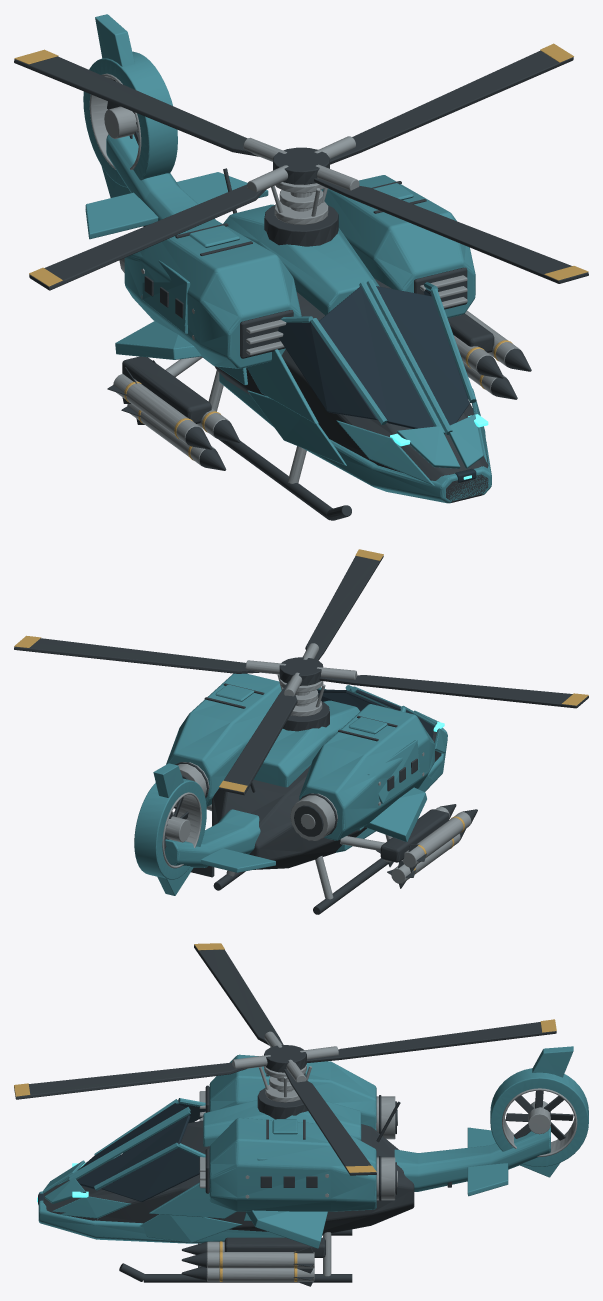
The model's file is hawk.glb.
The picture shows the model from 3 angles, top to bottom: view 1: azimuth 30°, elevation 25°; view 2: azimuth 150°, elevation 25°; view 3: azimuth 270°, elevation 25°; orthographic projection. The views are drawn at different scales.
Visible parts, largest first — view 1: modelRoot_team-primary, mainRotor_structure, modelRoot_canopy, modelRoot_structure, modelRoot_neutral-metal, mainRotor_neutral-metal, rocketLeft1_neutral-metal, mainRotor_warning, tailRotor_neutral-metal, rocketLeft3_neutral-metal; view 2: modelRoot_team-primary, mainRotor_structure, modelRoot_structure, modelRoot_neutral-metal, rocketLeft1_neutral-metal, mainRotor_neutral-metal, modelRoot_canopy, mainRotor_warning, rocketLeft3_neutral-metal, tailRotor_neutral-metal; view 3: modelRoot_team-primary, mainRotor_structure, modelRoot_structure, modelRoot_canopy, modelRoot_neutral-metal, rocketRight2_neutral-metal, rocketRight3_neutral-metal, mainRotor_neutral-metal, tailRotor_structure, mainRotor_warning, tailRotor_neutral-metal, rocketRight2_structure.
Boxes of the visible parts, left/top/right/bottom form: modelRoot_team-primary: left=83, top=14, right=491, bottom=503; mainRotor_structure: left=14, top=50, right=588, bottom=290; modelRoot_canopy: left=278, top=286, right=476, bottom=482; modelRoot_structure: left=122, top=168, right=494, bottom=520; modelRoot_neutral-metal: left=89, top=73, right=467, bottom=484; mainRotor_neutral-metal: left=243, top=136, right=359, bottom=191; rocketLeft1_neutral-metal: left=113, top=373, right=200, bottom=444; mainRotor_warning: left=14, top=43, right=588, bottom=286; tailRotor_neutral-metal: left=104, top=106, right=138, bottom=138; rocketLeft3_neutral-metal: left=127, top=404, right=214, bottom=465; modelRoot_team-primary: left=134, top=673, right=447, bottom=895; mainRotor_structure: left=14, top=556, right=588, bottom=795; modelRoot_structure: left=174, top=683, right=449, bottom=914; modelRoot_neutral-metal: left=162, top=674, right=424, bottom=899; rocketLeft1_neutral-metal: left=402, top=812, right=471, bottom=867; mainRotor_neutral-metal: left=245, top=643, right=357, bottom=696; modelRoot_canopy: left=317, top=689, right=433, bottom=739; mainRotor_warning: left=14, top=549, right=588, bottom=792; rocketLeft3_neutral-metal: left=391, top=833, right=460, bottom=883; tailRotor_neutral-metal: left=165, top=816, right=190, bottom=842; modelRoot_team-primary: left=38, top=1046, right=588, bottom=1248; mainRotor_structure: left=14, top=945, right=556, bottom=1175; modelRoot_structure: left=43, top=1073, right=451, bottom=1282; modelRoot_canopy: left=38, top=1100, right=205, bottom=1204; modelRoot_neutral-metal: left=97, top=1065, right=577, bottom=1276; rocketRight2_neutral-metal: left=207, top=1252, right=314, bottom=1268; rocketRight3_neutral-metal: left=207, top=1268, right=314, bottom=1281; mainRotor_neutral-metal: left=232, top=1031, right=338, bottom=1082; tailRotor_structure: left=505, top=1090, right=573, bottom=1140; mainRotor_warning: left=14, top=943, right=556, bottom=1172; tailRotor_neutral-metal: left=528, top=1101, right=550, bottom=1134; rocketRight2_structure: left=181, top=1246, right=313, bottom=1273.
Size of the model in its own units: 4.29 by 1.81 by 4.55.
